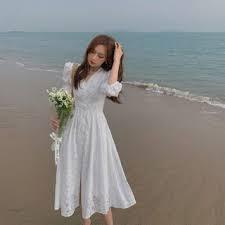dress: (53, 57, 138, 219)
